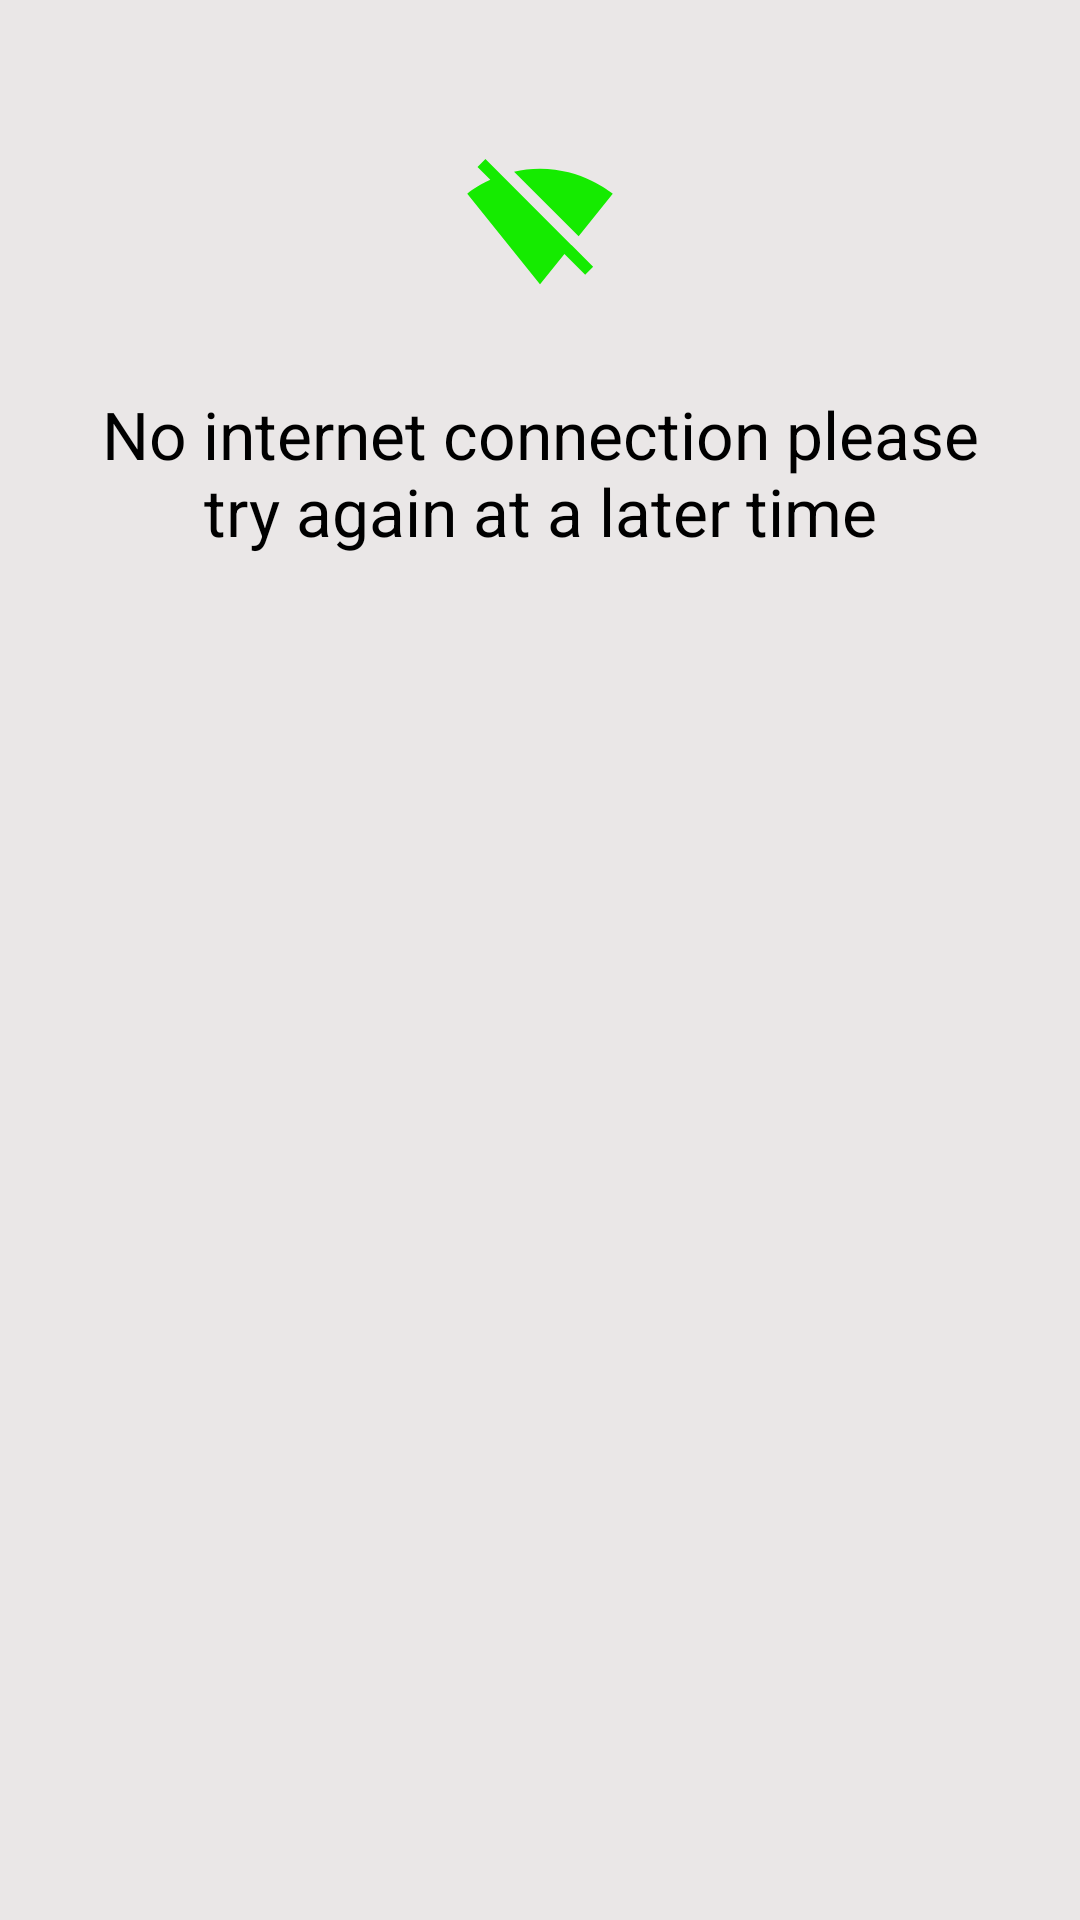

Icons on this 1080x1920 Android screen, each with its box as [x1,y1,x2,y2]:
signal wifi off: [467,159,613,284]
